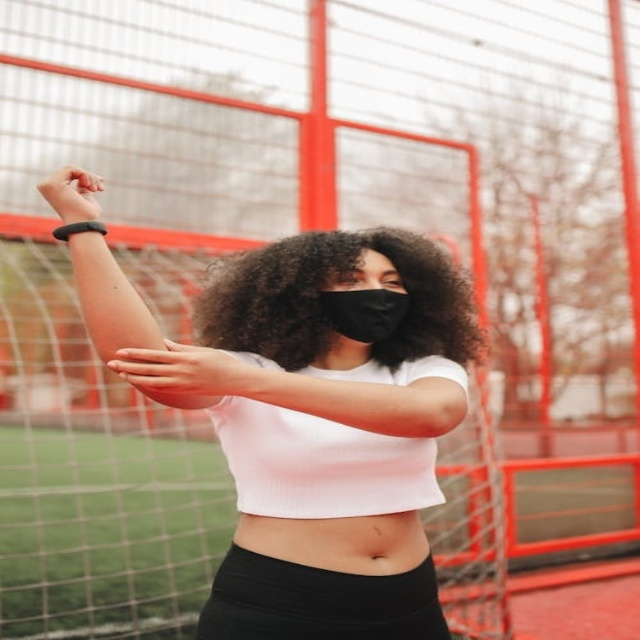Mascara: (317, 288, 410, 344)
Sin_gafas: (317, 265, 404, 288)
Sin_guantes: (106, 337, 241, 401), (26, 162, 114, 226)
